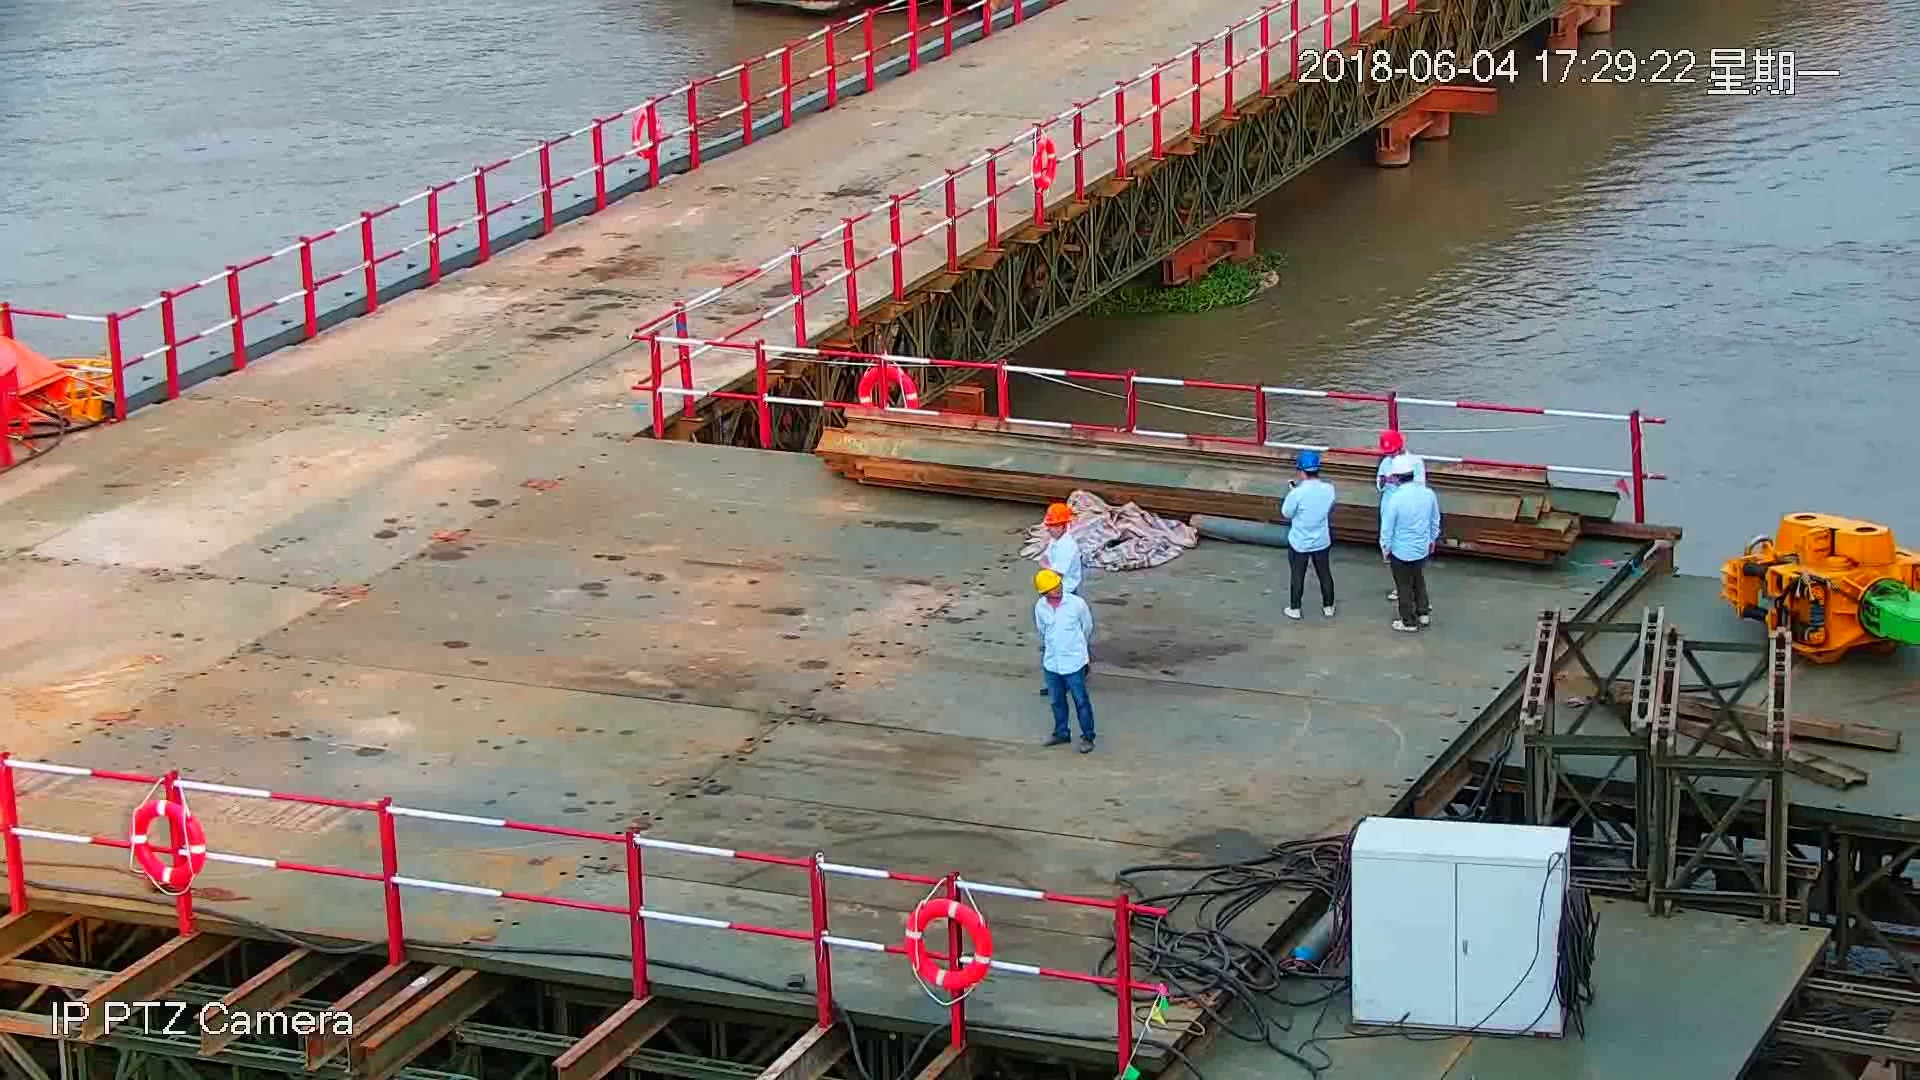blue: (1294, 446, 1319, 483)
red: (1375, 426, 1406, 459)
white: (1385, 454, 1414, 488)
yellow: (1034, 564, 1067, 600), (1042, 502, 1071, 538)
